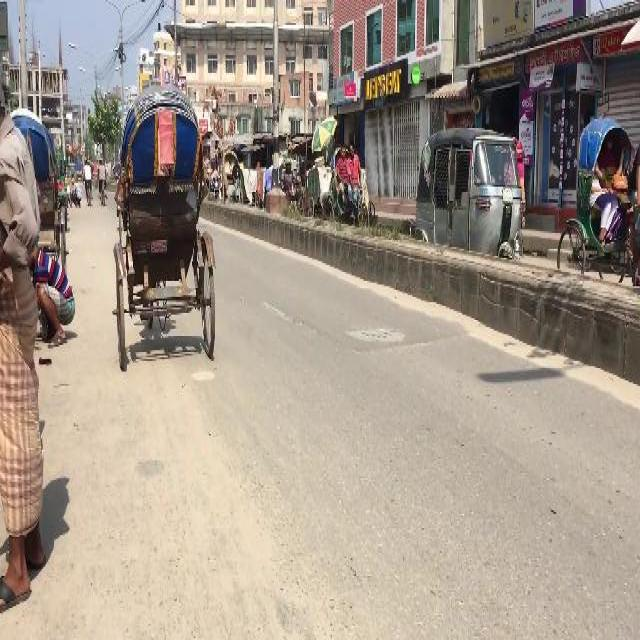auto rickshaw: (413, 127, 523, 257)
bicycle: (82, 159, 92, 204), (98, 158, 106, 204)
rickshaw: (113, 81, 215, 362), (554, 118, 640, 280), (28, 111, 68, 269), (326, 146, 368, 224), (221, 148, 243, 200)
